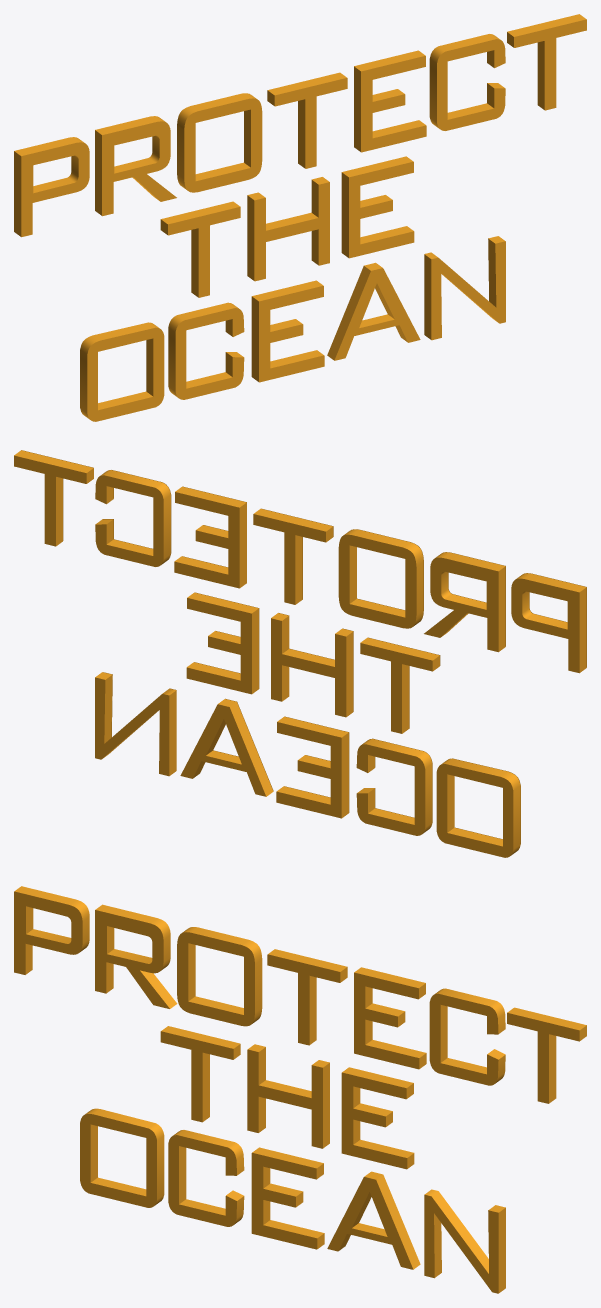
Rendered from M_baohuhaiyang01.FBX.
The picture shows the model from 3 angles, top to bottom: view 1: azimuth 30°, elevation 25°; view 2: azimuth 150°, elevation 25°; view 3: azimuth 330°, elevation 25°; orthographic projection.
Visible parts, largest first — view 1: M_baohuhaiyang01_01, M_baohuhaiyang01_02; view 2: M_baohuhaiyang01_01, M_baohuhaiyang01_02; view 3: M_baohuhaiyang01_01, M_baohuhaiyang01_02.
Boxes of the visible parts, x1,y1,x2,y2 form: M_baohuhaiyang01_01: [14, 14, 586, 420]; M_baohuhaiyang01_02: [21, 19, 586, 421]; M_baohuhaiyang01_01: [14, 450, 586, 857]; M_baohuhaiyang01_02: [21, 450, 586, 849]; M_baohuhaiyang01_01: [14, 886, 586, 1293]; M_baohuhaiyang01_02: [14, 891, 579, 1293].
Size of the model in its own units: 43.8 by 21.16 by 1.
